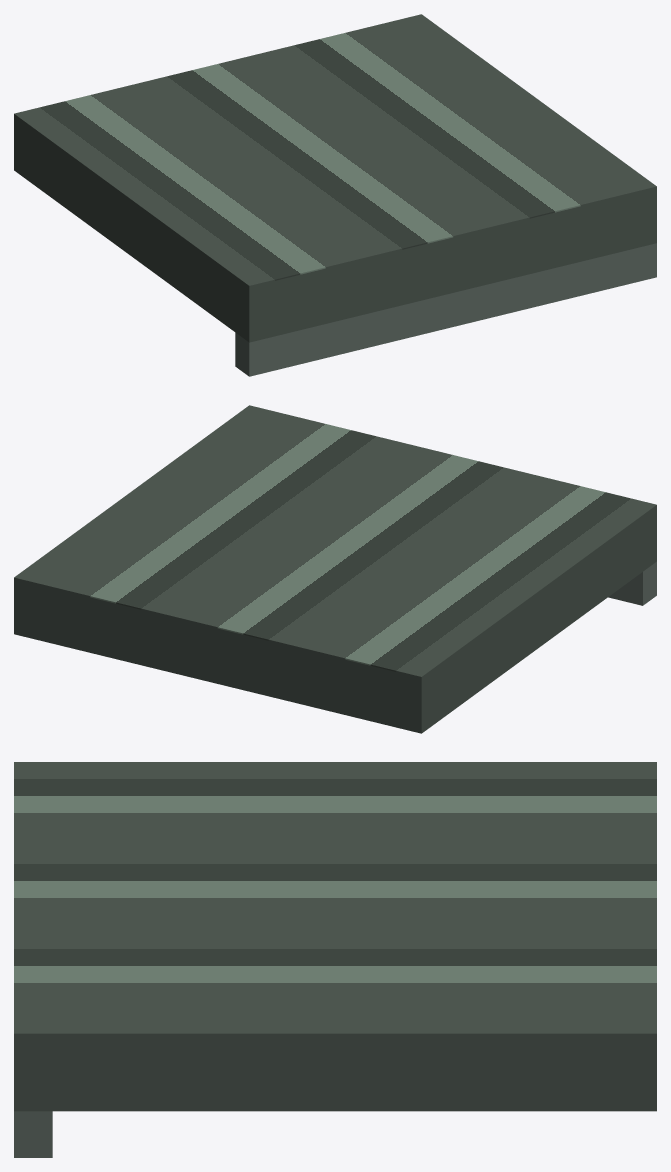
Rendered from CMU3DInteriorVehicleVanRoof2.glb.
3 renders of one model, top to bottom at view 1: azimuth 30°, elevation 25°; view 2: azimuth 150°, elevation 25°; view 3: azimuth 270°, elevation 25°, orthographic. The views are drawn at different scales.
Visible parts, largest first — view 1: overhead armor source finish, overhead armor, inner roof rib; view 2: overhead armor source finish, overhead armor, inner roof rib; view 3: overhead armor source finish, overhead armor, inner roof rib.
Part boxes in pixels (<box>): overhead armor source finish: <box>14,14,656,286</box>; overhead armor: <box>14,115,656,342</box>; inner roof rib: <box>235,243,656,376</box>; overhead armor source finish: <box>14,405,656,677</box>; overhead armor: <box>14,506,656,733</box>; inner roof rib: <box>608,561,656,605</box>; overhead armor source finish: <box>14,762,656,1035</box>; overhead armor: <box>14,1035,656,1111</box>; inner roof rib: <box>14,1111,52,1157</box>.
Size of the model in its own units: 1 by 0.213 by 1.
Materials: 3 (1 with a texture image).
